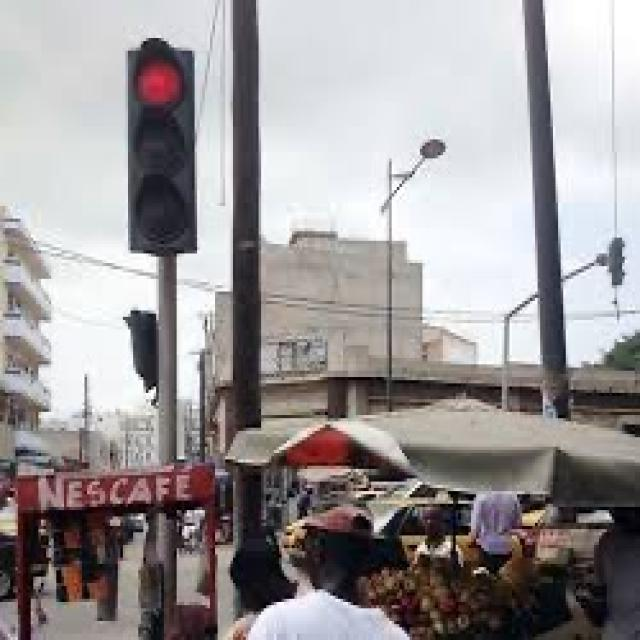feu: (130, 40, 195, 253), (125, 316, 159, 392), (610, 243, 626, 287)
